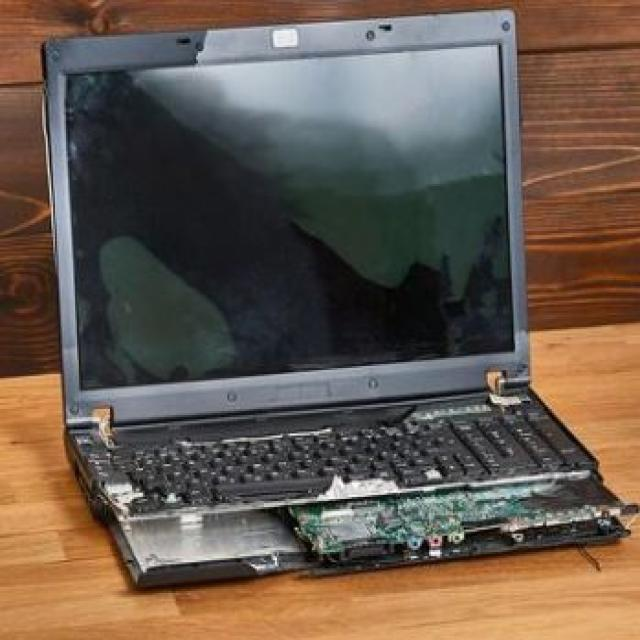electronic: (39, 4, 636, 589)
